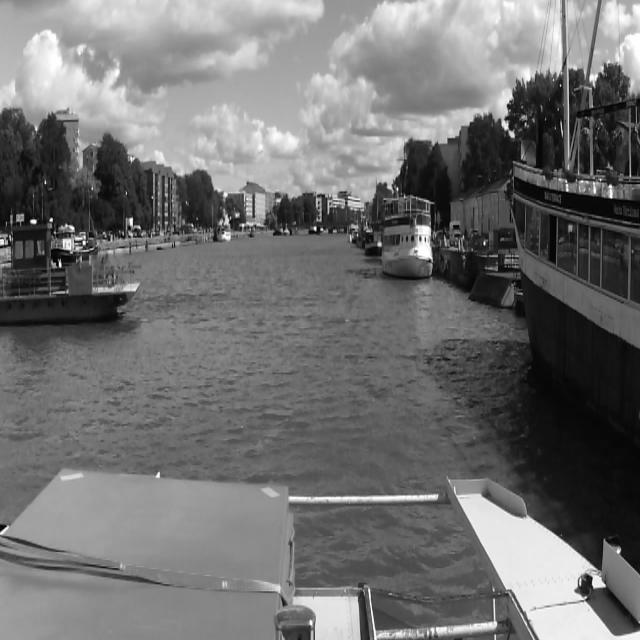ship: (510, 19, 634, 428), (0, 222, 142, 321), (382, 190, 436, 273), (41, 218, 103, 265), (355, 220, 373, 247), (216, 212, 231, 242), (366, 232, 382, 257), (273, 222, 283, 236), (284, 223, 290, 236), (248, 230, 256, 238)
